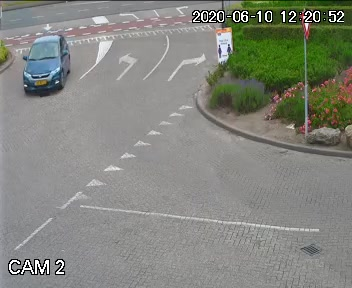car: (13, 31, 71, 105)
